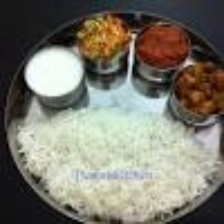sabzi: (174, 64, 223, 117)
